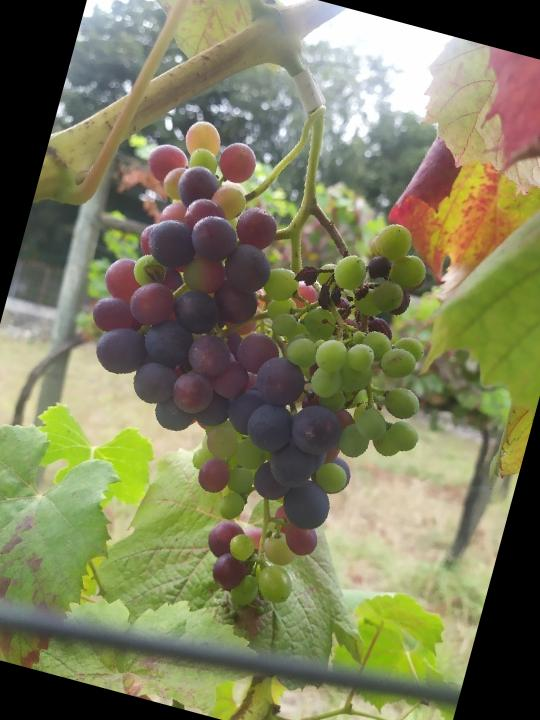grape: (24, 101, 487, 643)
